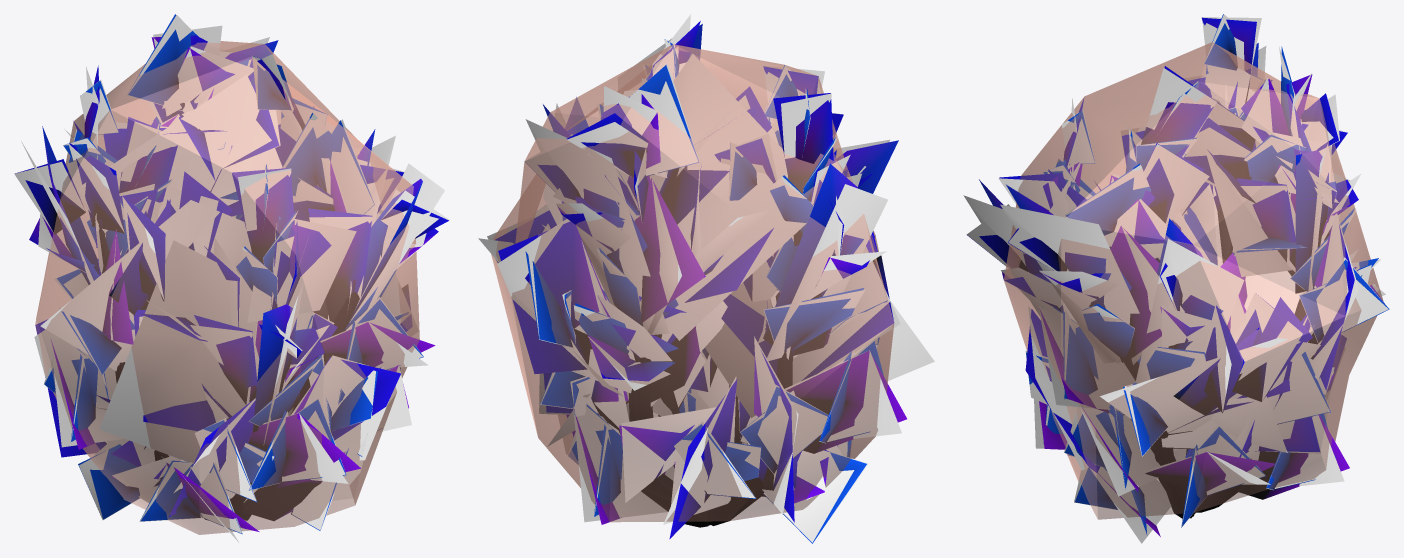
File: Juniper_tree_03.dae
The picture shows the model from 3 angles, left to right: view 1: azimuth 30°, elevation 25°; view 2: azimuth 150°, elevation 25°; view 3: azimuth 270°, elevation 25°; orthographic projection. The views are drawn at different scales.
Parts seen in each view (by area): view 1: Colmesh-1, Juniper_tree_03_a250, Juniper_tree_03_a500; view 2: Colmesh-1, Juniper_tree_03_a250, Juniper_tree_03_a500; view 3: Colmesh-1, Juniper_tree_03_a250, Juniper_tree_03_a500.
Boxes of the visible parts, bbox=[...] form: Colmesh-1: bbox=[35, 41, 419, 534]; Juniper_tree_03_a250: bbox=[14, 15, 449, 542]; Juniper_tree_03_a500: bbox=[15, 14, 448, 534]; Colmesh-1: bbox=[491, 44, 894, 525]; Juniper_tree_03_a250: bbox=[478, 14, 934, 542]; Juniper_tree_03_a500: bbox=[495, 21, 906, 543]; Colmesh-1: bbox=[1004, 42, 1383, 519]; Juniper_tree_03_a250: bbox=[963, 14, 1388, 543]; Juniper_tree_03_a500: bbox=[967, 14, 1389, 536].
Bounding box in the file's own units: 4.29 × 4.31 × 5.17.
